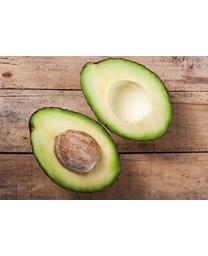avocado: (29, 106, 121, 194), (79, 57, 173, 142)
